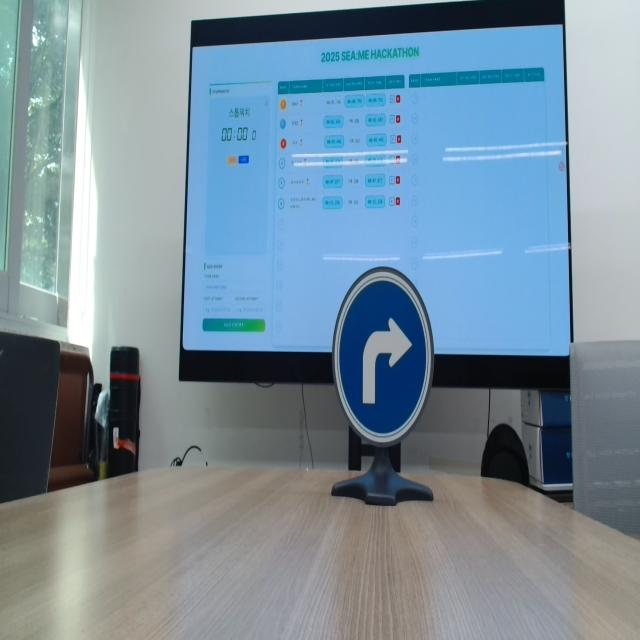right_dierection: (331, 255, 455, 443)
